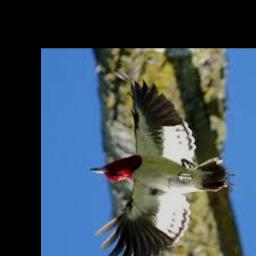Woodpecker: (90, 73, 234, 256)
